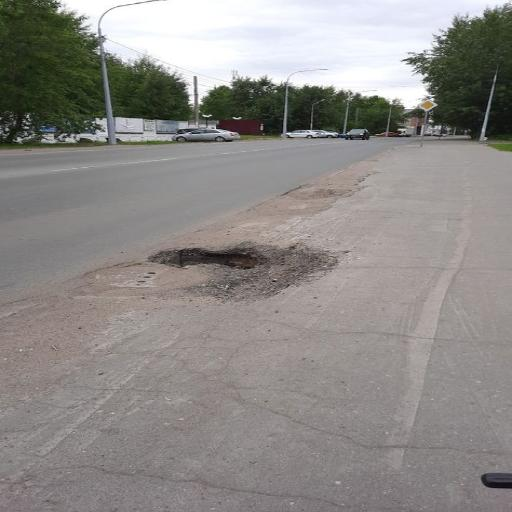construction_fence: (75, 240, 333, 304)
glass_wall: (0, 136, 510, 512)
